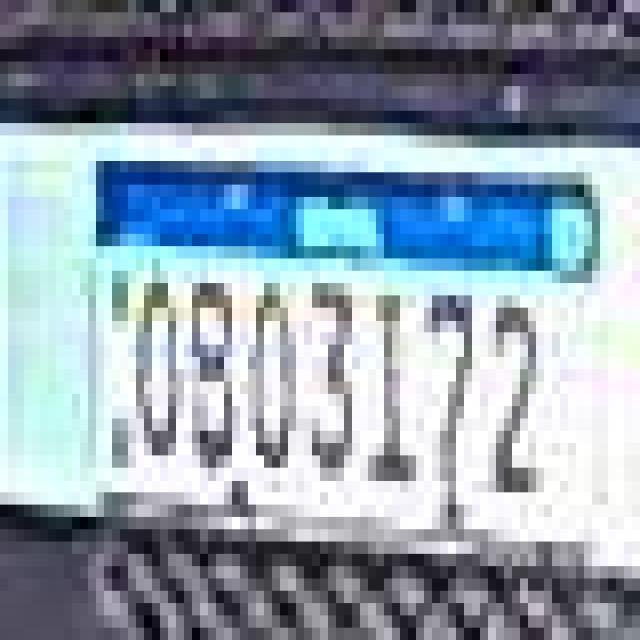3: (300, 274, 356, 483)
7: (425, 287, 479, 500)
B: (184, 271, 242, 477)
I: (363, 286, 418, 494)
O: (247, 279, 301, 479), (132, 268, 184, 465)
